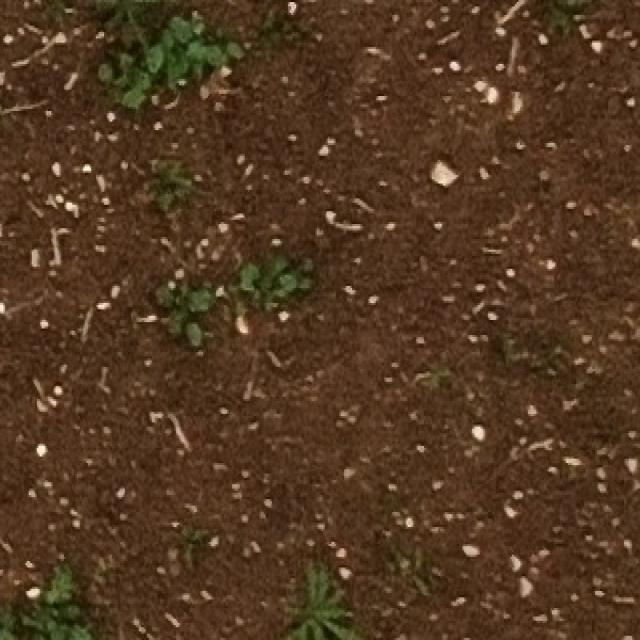cirse: (298, 534, 373, 618), (271, 543, 347, 625), (278, 565, 350, 640)
